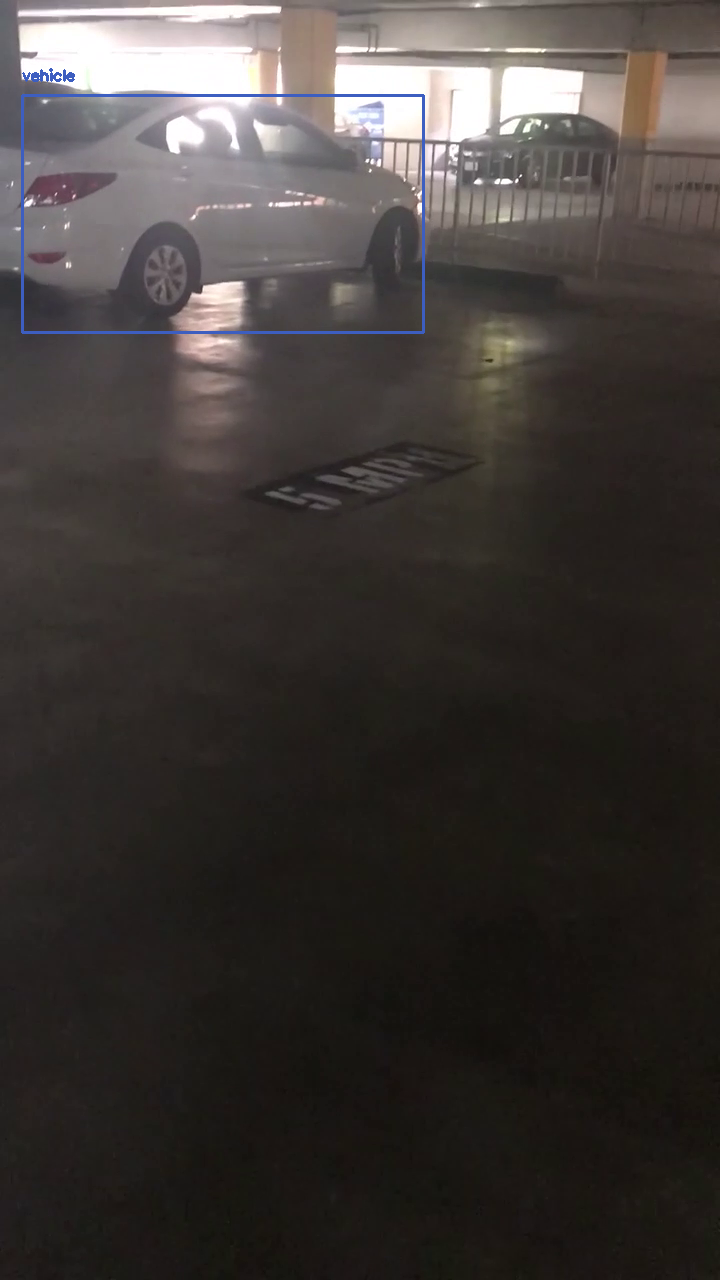vehicle: (22, 95, 423, 332)
